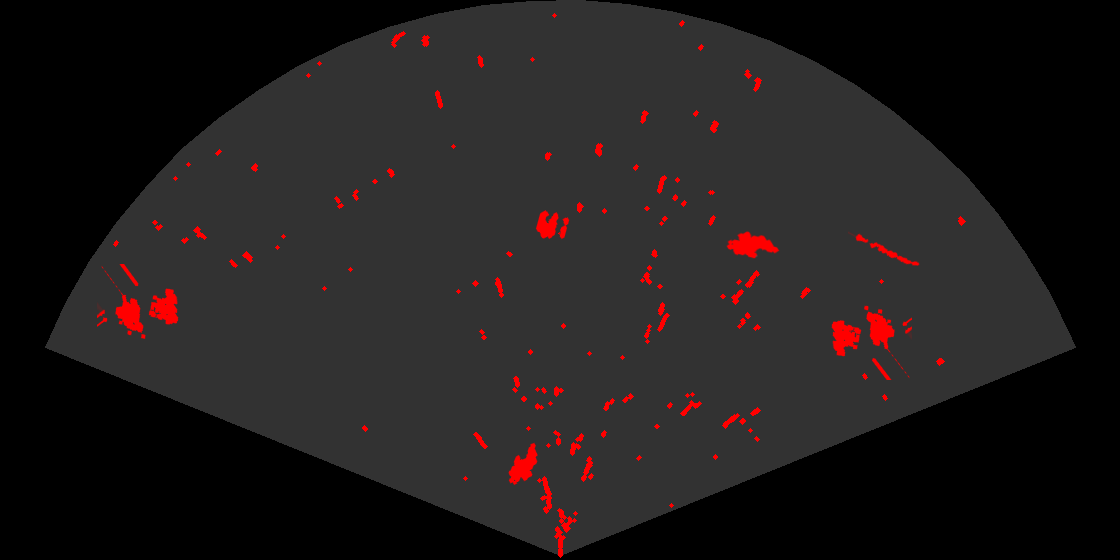AUV: (725, 230, 781, 260), (507, 441, 539, 487)
ball: (534, 209, 571, 241)
cage: (97, 264, 180, 341), (830, 304, 912, 380)
chain: (848, 230, 921, 267)
